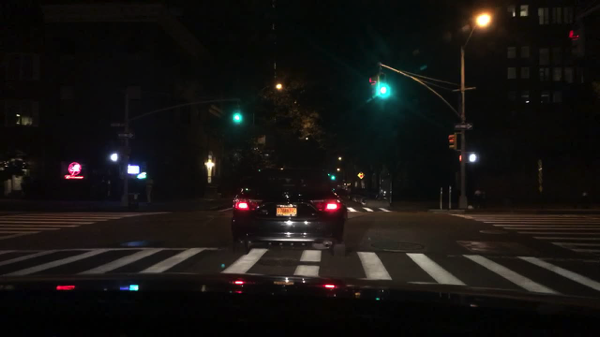car: (230, 164, 346, 255)
person: (145, 175, 154, 206)
traffic light: (568, 28, 579, 54), (377, 81, 389, 98), (448, 135, 457, 151), (369, 76, 375, 98), (233, 111, 242, 124), (109, 153, 120, 163), (329, 173, 339, 182), (469, 153, 477, 162), (459, 155, 462, 163), (506, 63, 507, 70)
traffic sign: (128, 85, 141, 101), (126, 165, 139, 175), (118, 132, 134, 139), (257, 133, 266, 145), (110, 122, 124, 129), (455, 124, 473, 129), (357, 171, 365, 179)
